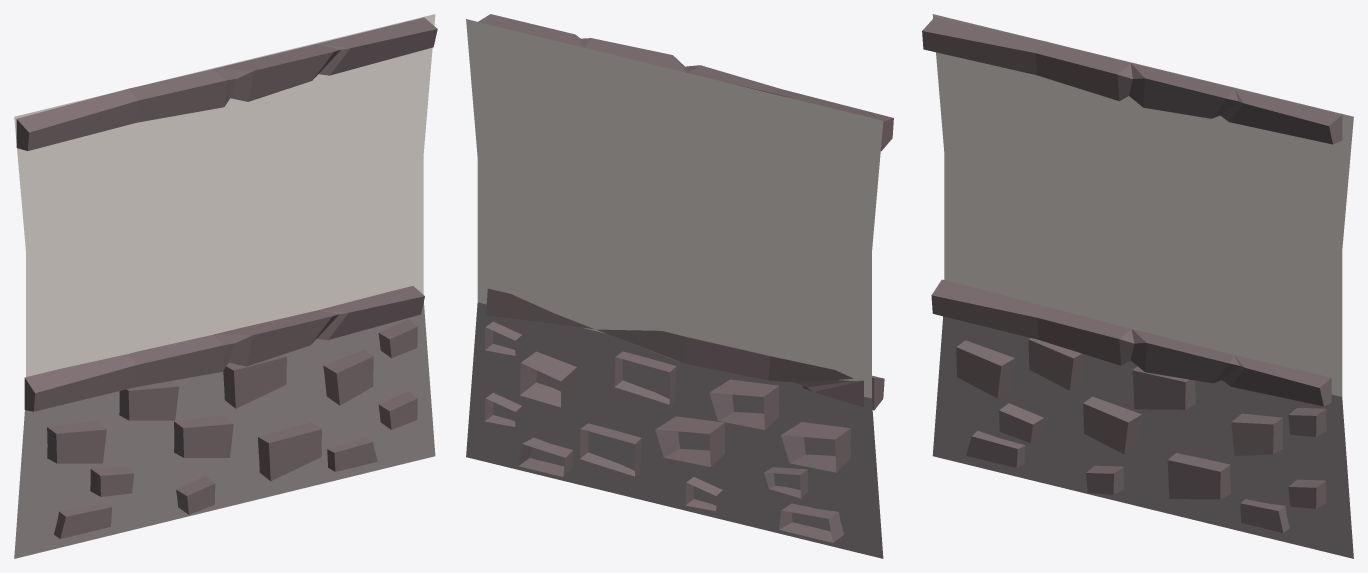
The model's file is SM_L_R_Home_Side.fbx.
3 views of the same model, side by side, from view 1: azimuth 30°, elevation 25°; view 2: azimuth 150°, elevation 25°; view 3: azimuth 330°, elevation 25° (orthographic).
Visible parts, largest first — view 1: SM_L_R_Home_Side; view 2: SM_L_R_Home_Side; view 3: SM_L_R_Home_Side.
Boxes of the visible parts, x1,y1,x2,y2 form: SM_L_R_Home_Side: (14, 14, 437, 558); SM_L_R_Home_Side: (466, 14, 893, 558); SM_L_R_Home_Side: (922, 14, 1353, 558).
Bounding box in the file's own units: 3 × 3.01 × 0.3975.
